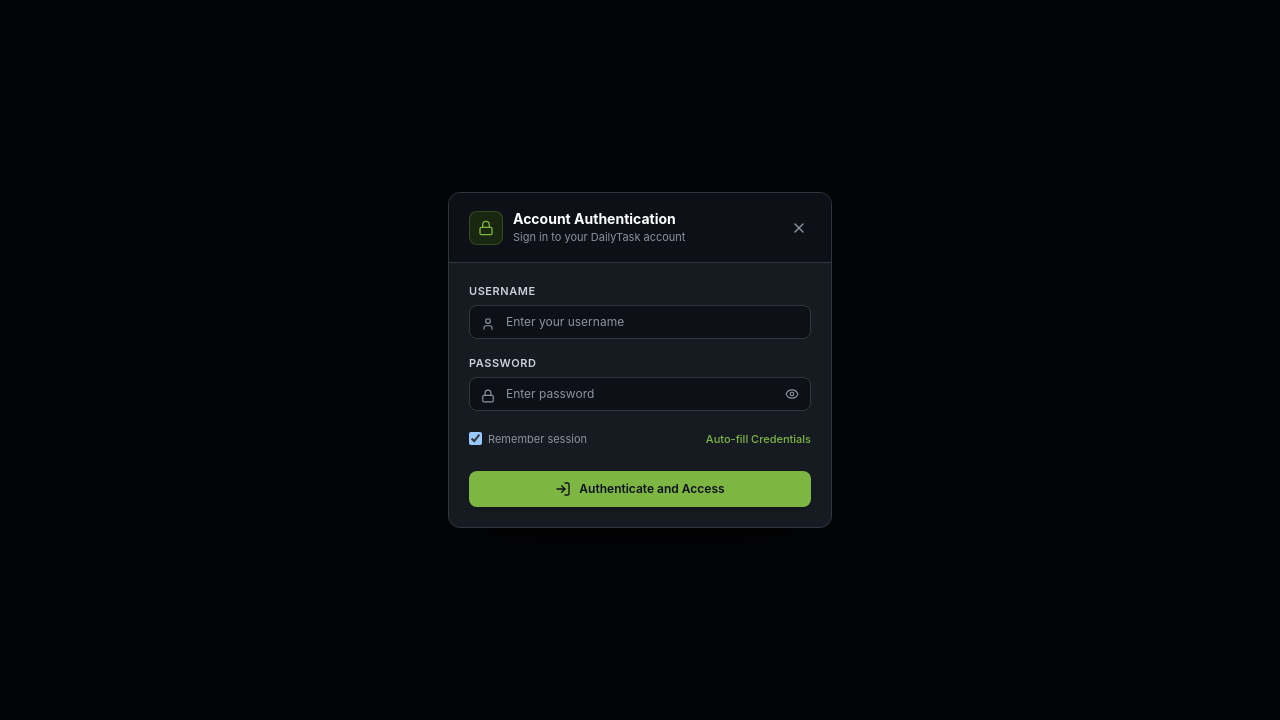
Test: LoginModal Component › displays error on incorrect credentials
The width and height of the screenshot is (1280, 720).
In the field with placeholder "Enter your username": (640, 322) [469,305,811,339], type "wronguser"
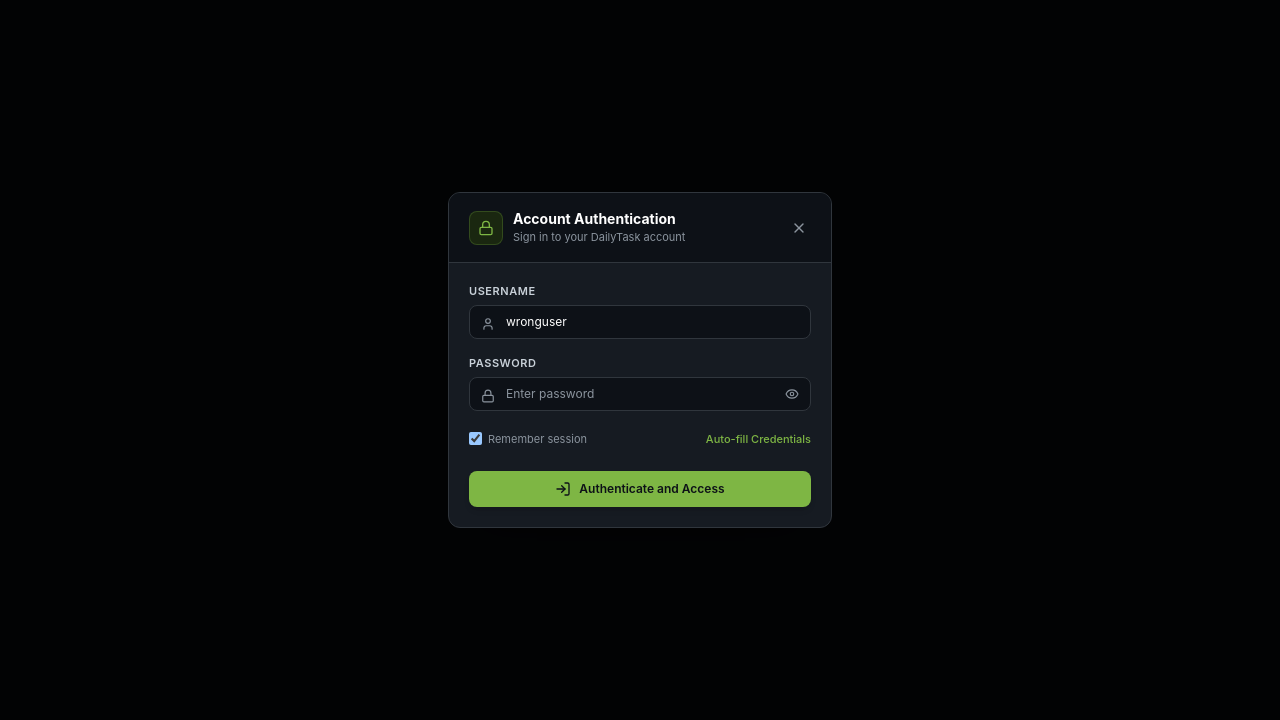
In the password field with placeholder "Enter password": (640, 394) [469,377,811,411], type "wrongpassword"
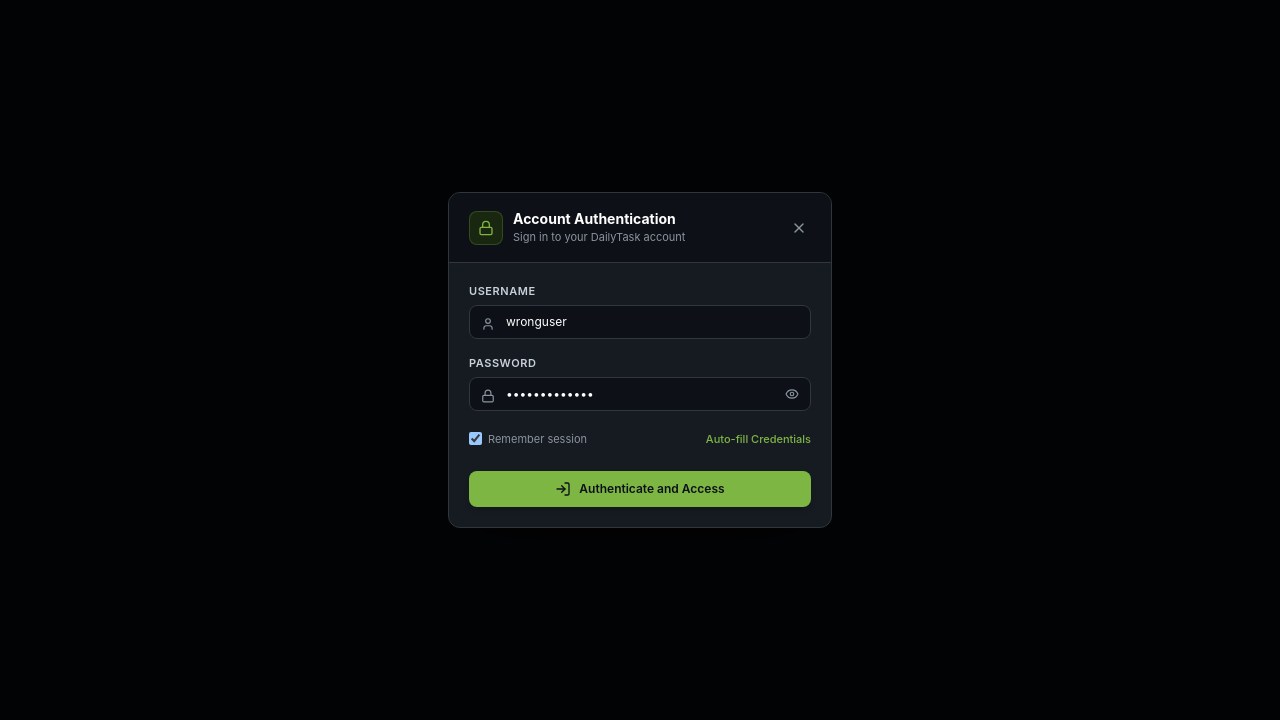
Click the button "Authenticate and Access": (640, 489) [469,471,811,507]
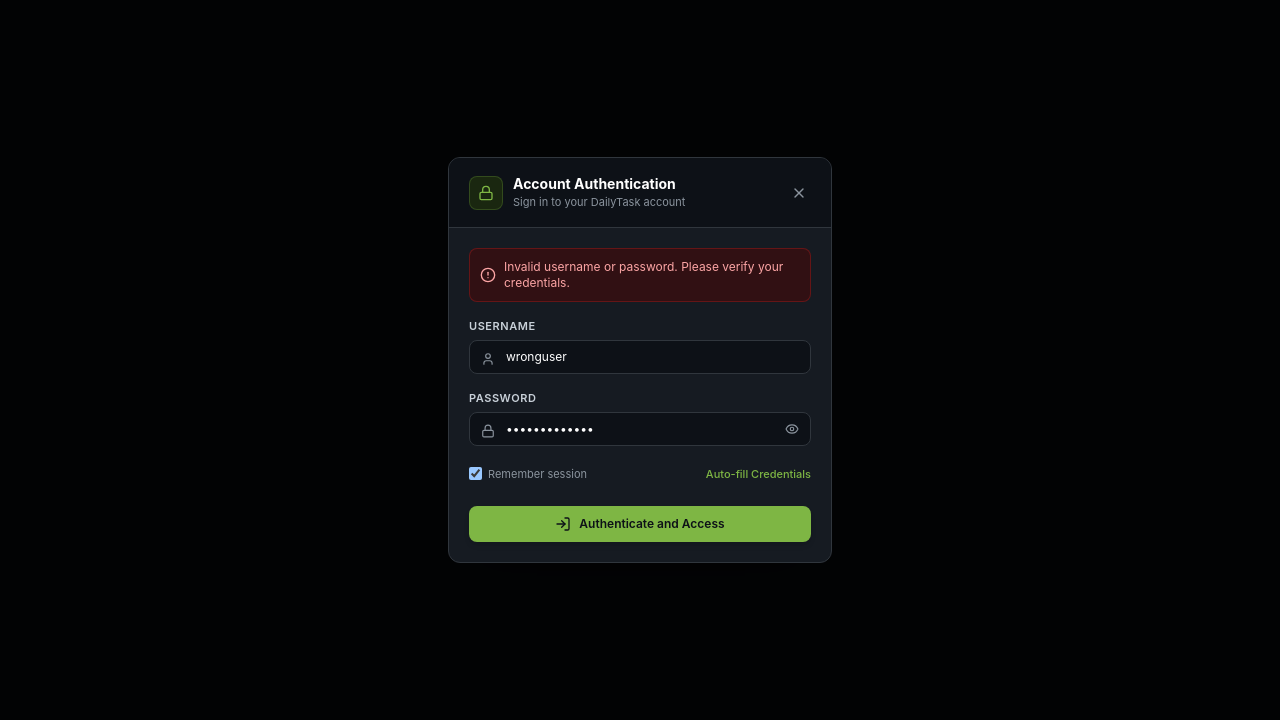
Check: the text "Invalid username or password" is shown, box [504,259,783,290]
